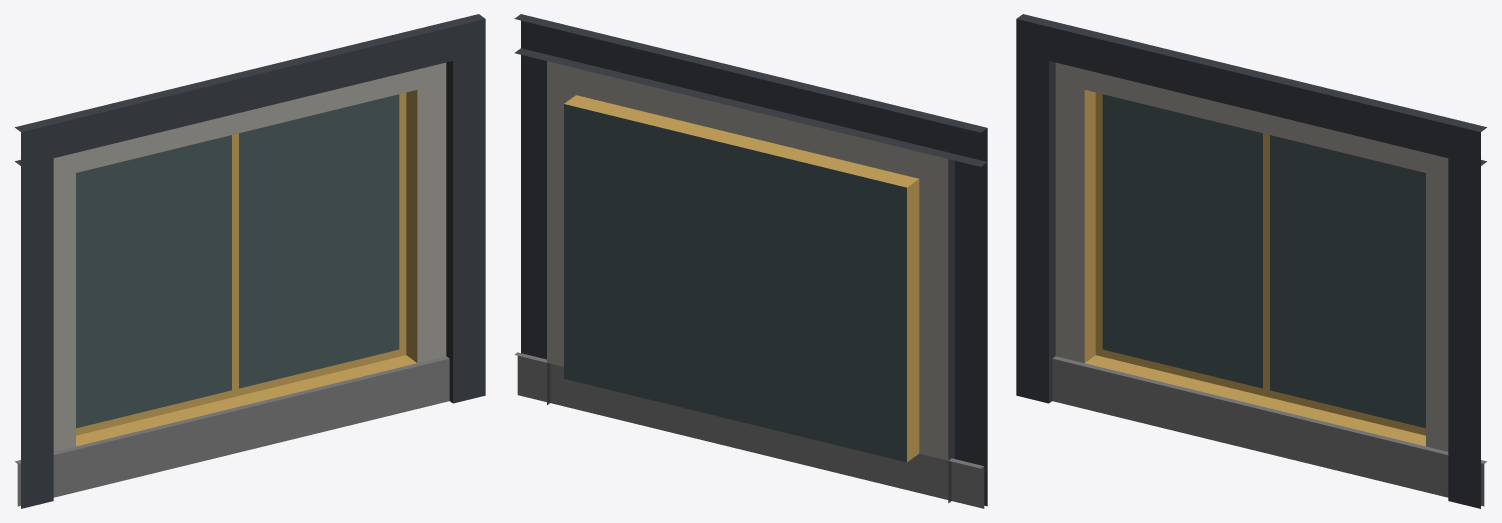
3 renders of one model, left to right at view 1: azimuth 30°, elevation 25°; view 2: azimuth 150°, elevation 25°; view 3: azimuth 330°, elevation 25°, orthographic.
Parts seen in each view (by area): view 1: a2019/750/base-w1; view 2: a2019/750/base-w1; view 3: a2019/750/base-w1.
Boxes of the visible parts, x1,y1,x2,y2 form: a2019/750/base-w1: (14, 14, 485, 508); a2019/750/base-w1: (514, 14, 987, 508); a2019/750/base-w1: (1016, 14, 1487, 508).
Size of the model in its own units: 4 by 3.1 by 0.28.
